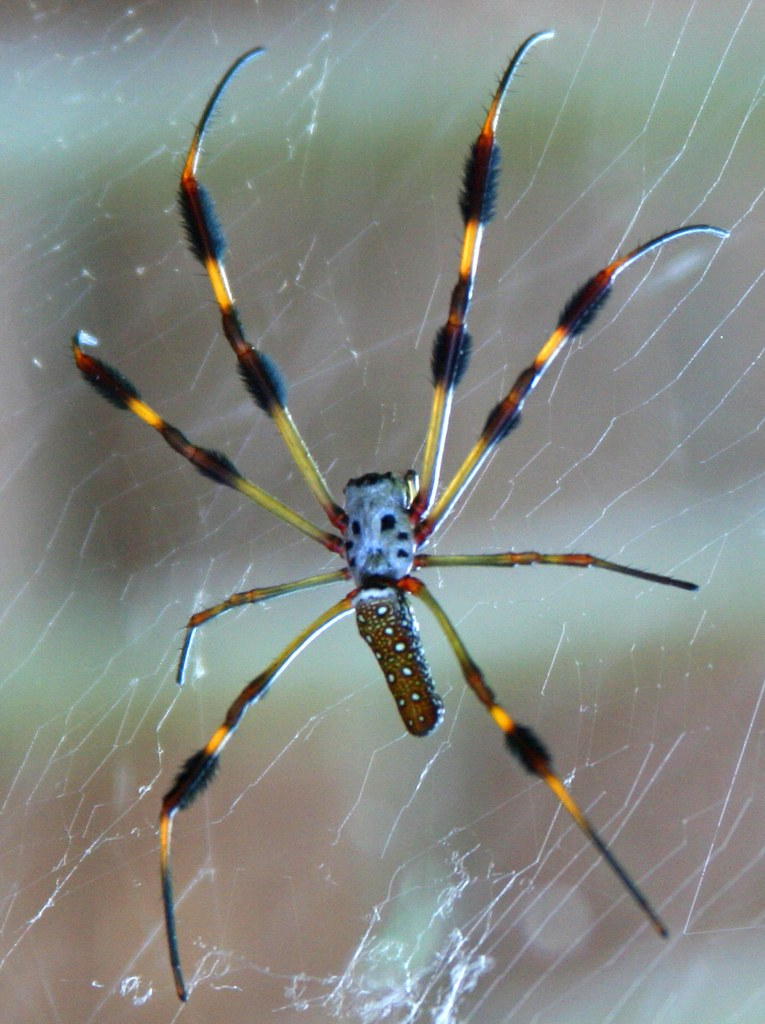insect: (75, 29, 737, 1017), (64, 24, 729, 1007)
